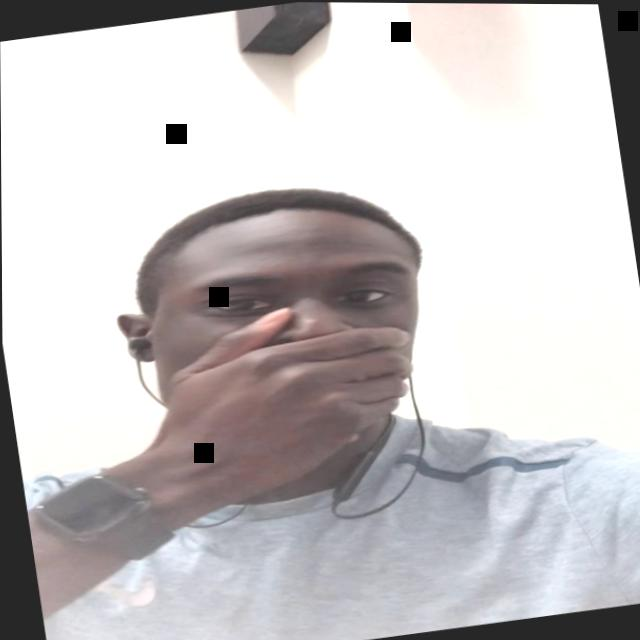NO-Mask: (131, 206, 443, 466)
